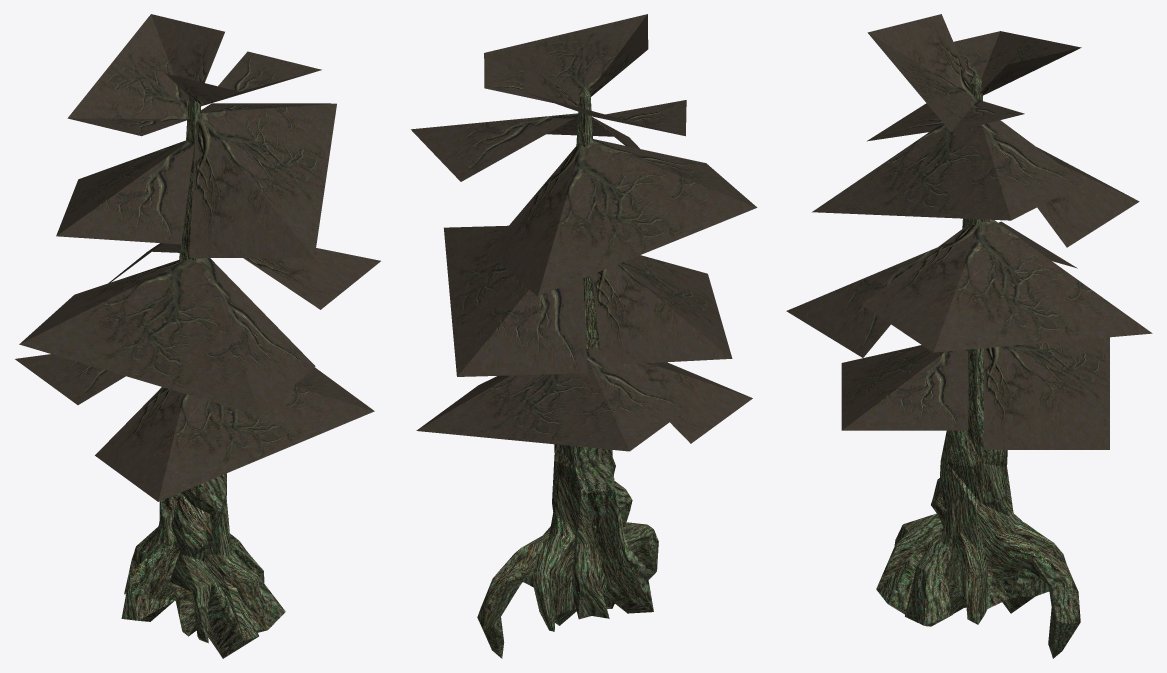
Rendered from decd_dath_humungtree_l0.fbx.
3 views of the same model, side by side, from view 1: azimuth 30°, elevation 25°; view 2: azimuth 150°, elevation 25°; view 3: azimuth 270°, elevation 25° (orthographic).
Parts seen in each view (by area): view 1: mesh_node; view 2: mesh_node; view 3: mesh_node.
Part boxes in pixels (x1,y1,x2,y2): mesh_node: [15, 14, 380, 658]; mesh_node: [411, 14, 757, 658]; mesh_node: [786, 14, 1152, 658].
Bounding box in the file's own units: 44.63 × 78.28 × 43.38.
3 materials, 3 textured.
